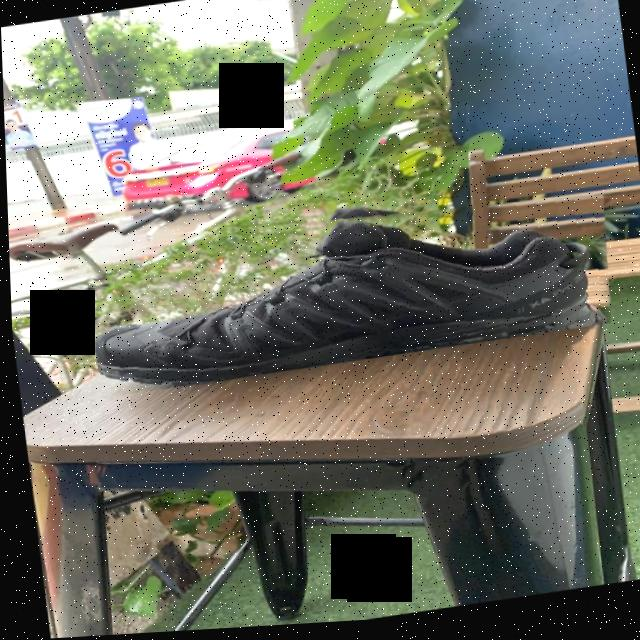shoe: (78, 174, 617, 400)
